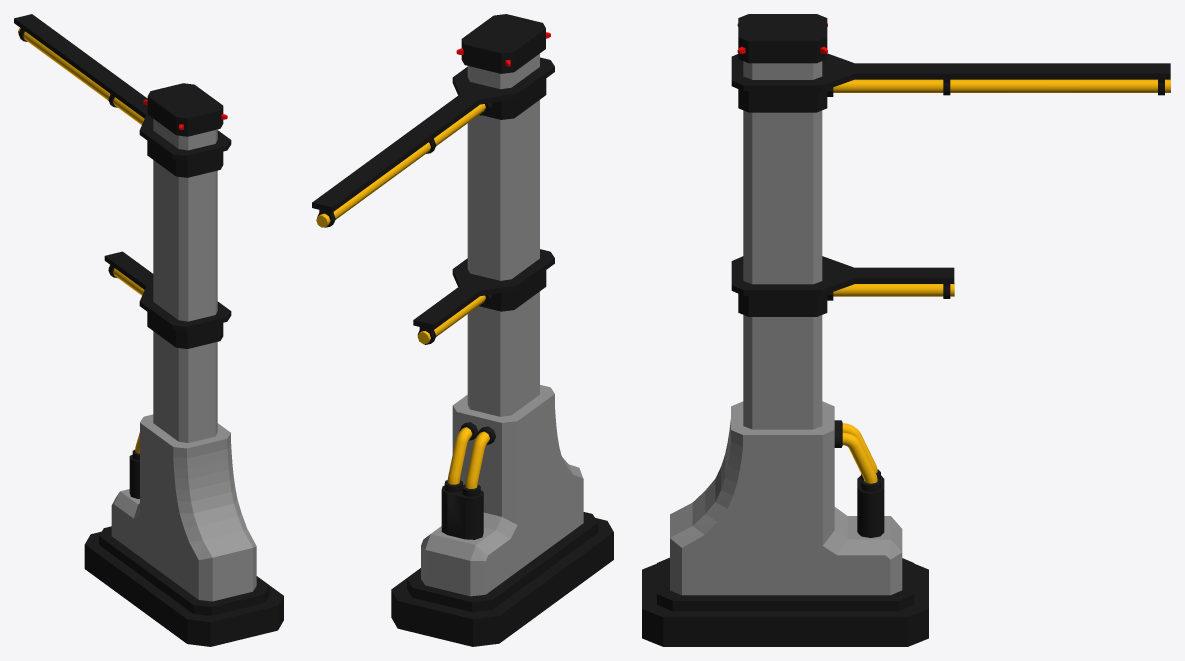
The model's file is SM_HarbourShipCradle.FBX.
3 renders of one model, left to right at view 1: azimuth 30°, elevation 25°; view 2: azimuth 150°, elevation 25°; view 3: azimuth 270°, elevation 25°, orthographic. The views are drawn at different scales.
Parts seen in each view (by area): view 1: Box001; view 2: Box001; view 3: Box001.
Part boxes in pixels (box(x1,y1,x2,y2)): Box001: box(14, 14, 283, 646); Box001: box(312, 14, 613, 646); Box001: box(642, 14, 1170, 646).
Size of the model in its own units: 1856 by 9080 by 7363.
